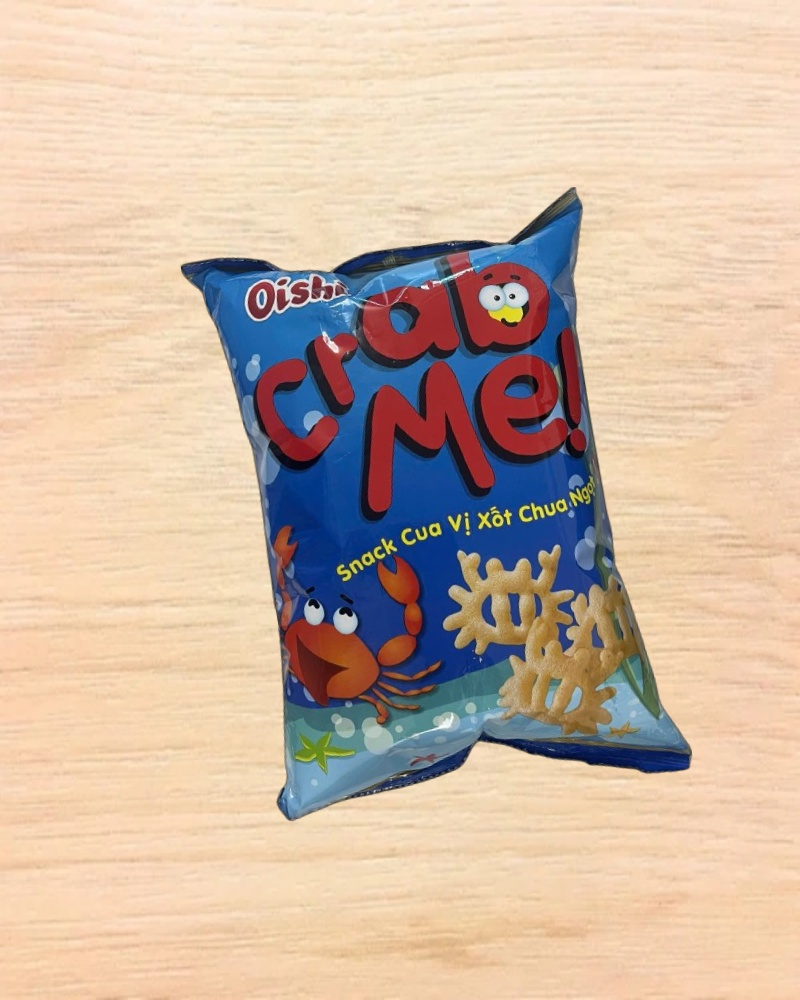Snack chay: (180, 185, 695, 843)
